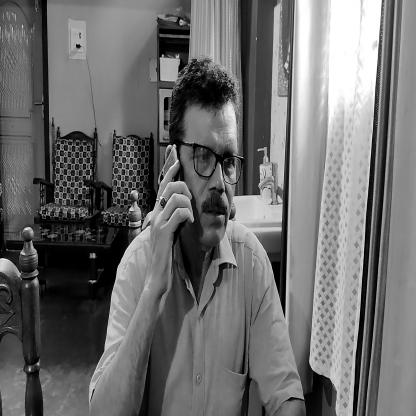Distracted: (165, 55, 244, 258)
